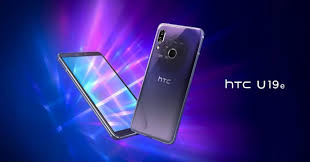htc: (127, 18, 205, 144)
